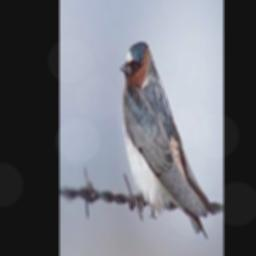Swallow: (121, 39, 215, 243)
